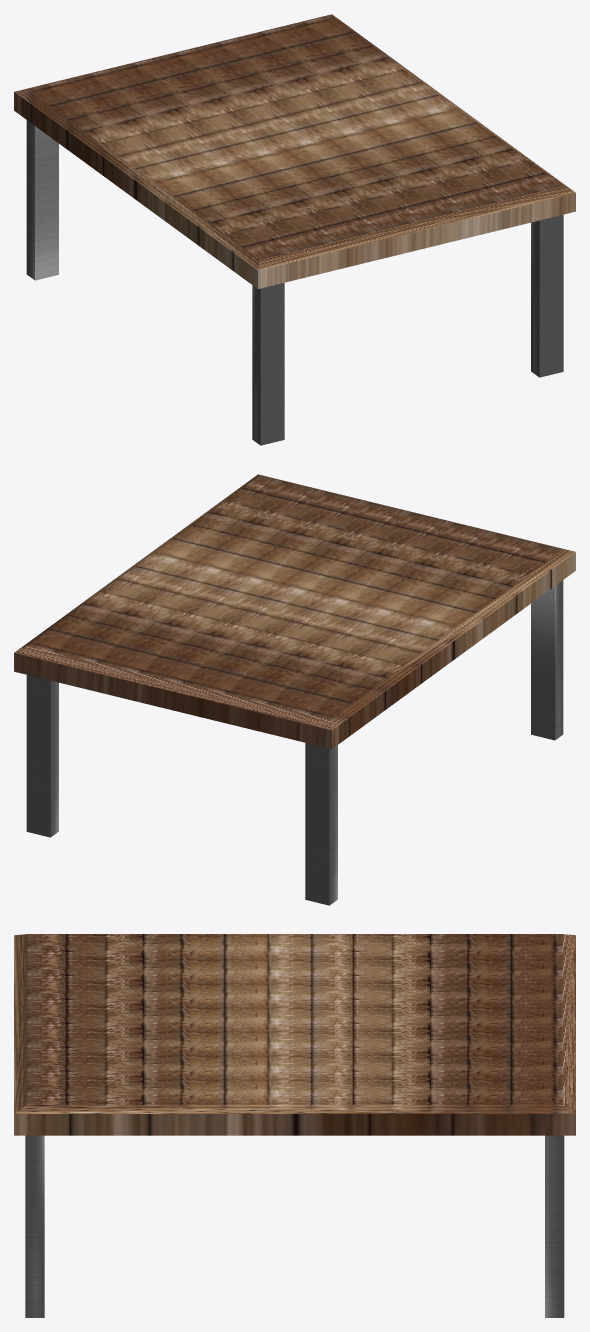
The model's file is SingleDesk.fbx.
3 renders of one model, top to bottom at view 1: azimuth 30°, elevation 25°; view 2: azimuth 150°, elevation 25°; view 3: azimuth 270°, elevation 25°, orthographic. The views are drawn at different scales.
Visible parts, largest first — view 1: pCube1, pCube6, pCube3, pCube5; view 2: pCube1, pCube5, pCube4, pCube6; view 3: pCube1, pCube3, pCube4.
Boxes of the visible parts, box(x1,y1,x2,y2) form: pCube1: box(14, 14, 575, 288); pCube6: box(252, 282, 284, 445); pCube3: box(531, 214, 563, 377); pCube5: box(26, 120, 58, 280); pCube1: box(14, 474, 575, 748); pCube5: box(305, 743, 337, 905); pCube4: box(26, 675, 58, 837); pCube6: box(531, 580, 563, 740); pCube1: box(14, 934, 575, 1135); pCube3: box(25, 1135, 44, 1317); pCube4: box(545, 1135, 564, 1317).
Size of the model in its own units: 13.66 by 7.61 by 18.15.
